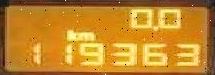-: (149, 23, 158, 30)
0: (156, 5, 182, 28), (127, 7, 153, 28)
1: (27, 38, 42, 65), (60, 42, 71, 66)
3: (107, 41, 136, 67), (171, 40, 198, 65)
6: (138, 40, 167, 65)
9: (76, 40, 102, 65)
X: (76, 31, 96, 41), (62, 27, 76, 41)
